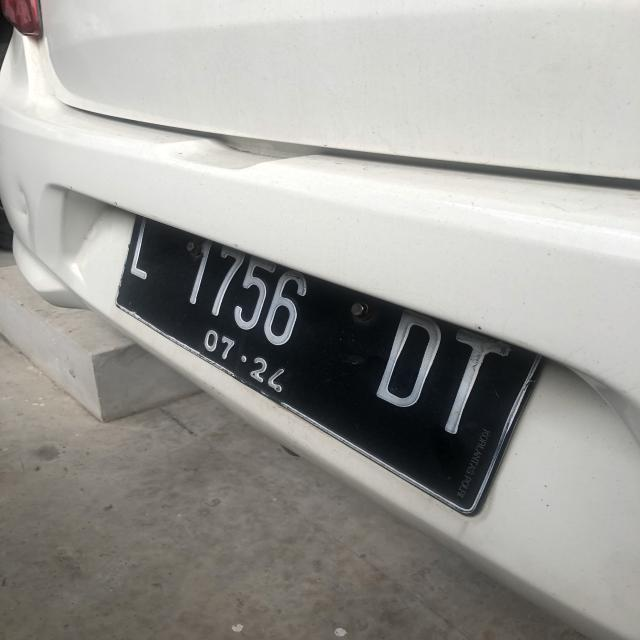1: (182, 238, 214, 304)
5: (232, 260, 272, 326)
6: (262, 270, 309, 344)
7: (214, 245, 244, 318)
D: (372, 311, 447, 408)
L: (129, 214, 159, 284)
T: (439, 334, 510, 434)
